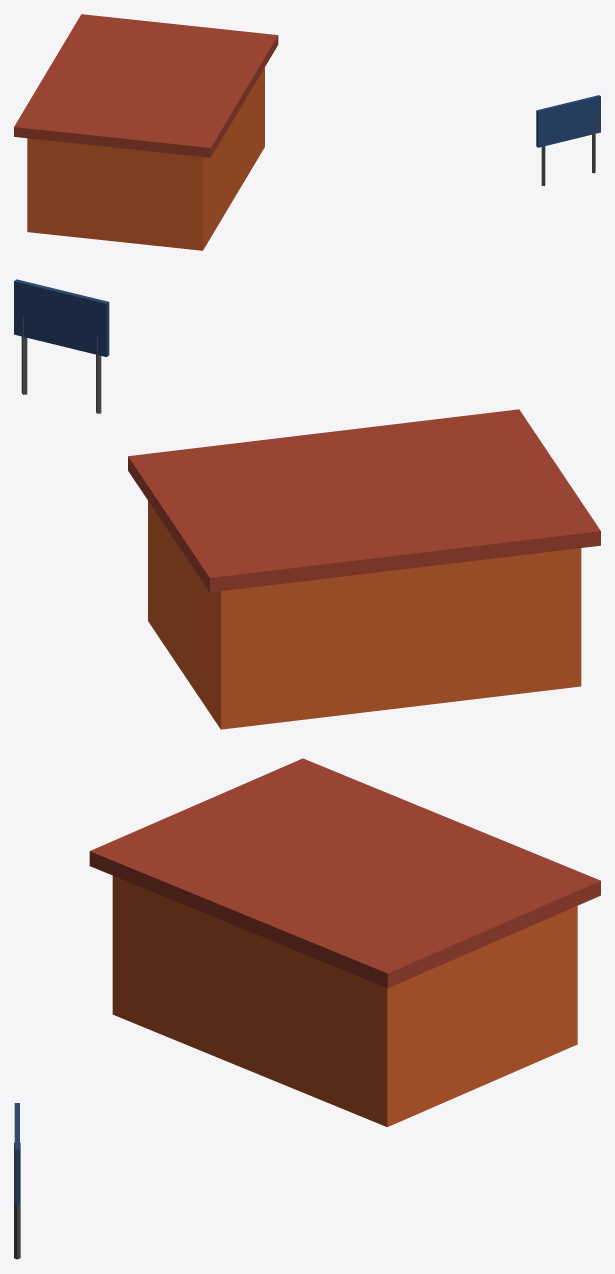
Rendered from sa_orangebldg.glb.
3 renders of one model, top to bottom at view 1: azimuth 30°, elevation 25°; view 2: azimuth 150°, elevation 25°; view 3: azimuth 270°, elevation 25°, orthographic. The views are drawn at different scales.
Visible parts, largest first — view 1: sa_orangebldg_lod0; view 2: sa_orangebldg_lod0; view 3: sa_orangebldg_lod0.
Boxes of the visible parts, x1=… form: sa_orangebldg_lod0: x1=14, y1=14, x2=600, y2=250; sa_orangebldg_lod0: x1=14, y1=279, x2=600, y2=729; sa_orangebldg_lod0: x1=14, y1=758, x2=600, y2=1259.
Size of what is drawn, in the model's own units: 15.66 by 3.3 by 10.74.
